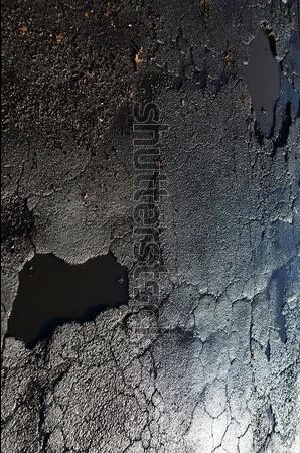pothole: (6, 242, 134, 349), (243, 17, 295, 149), (2, 190, 38, 246), (251, 401, 278, 452)
